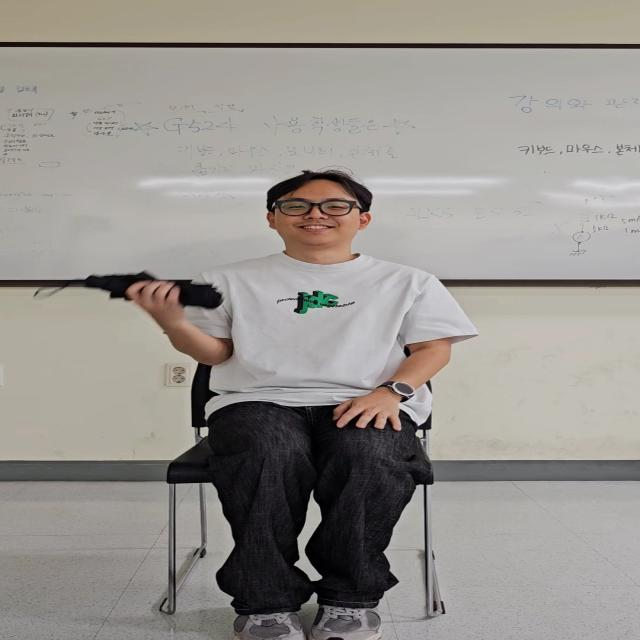curl: (79, 257, 250, 374)
